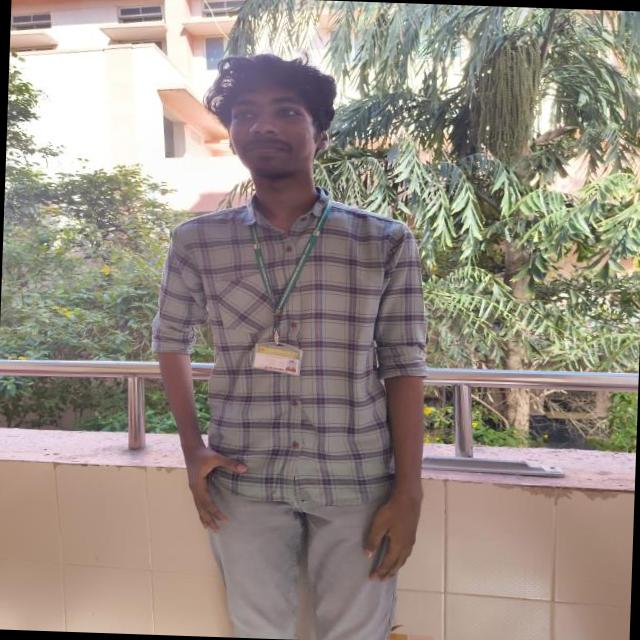id_card: (242, 198, 330, 374)
